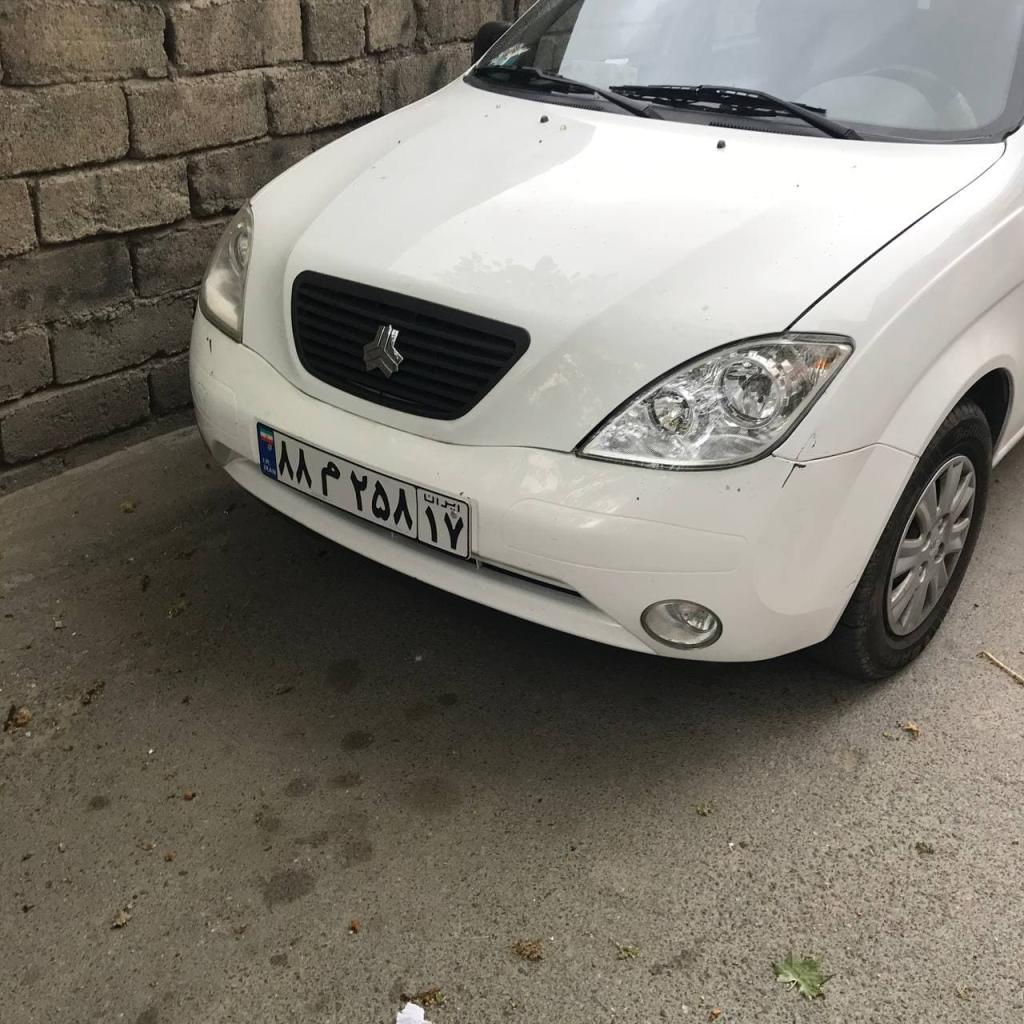Plates: (258, 423, 472, 558)
